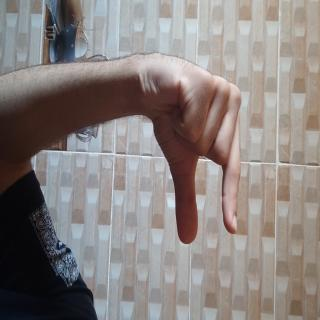DELL: (33, 99, 188, 258)
